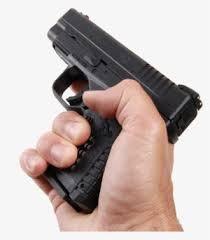gun: (17, 5, 203, 218)
